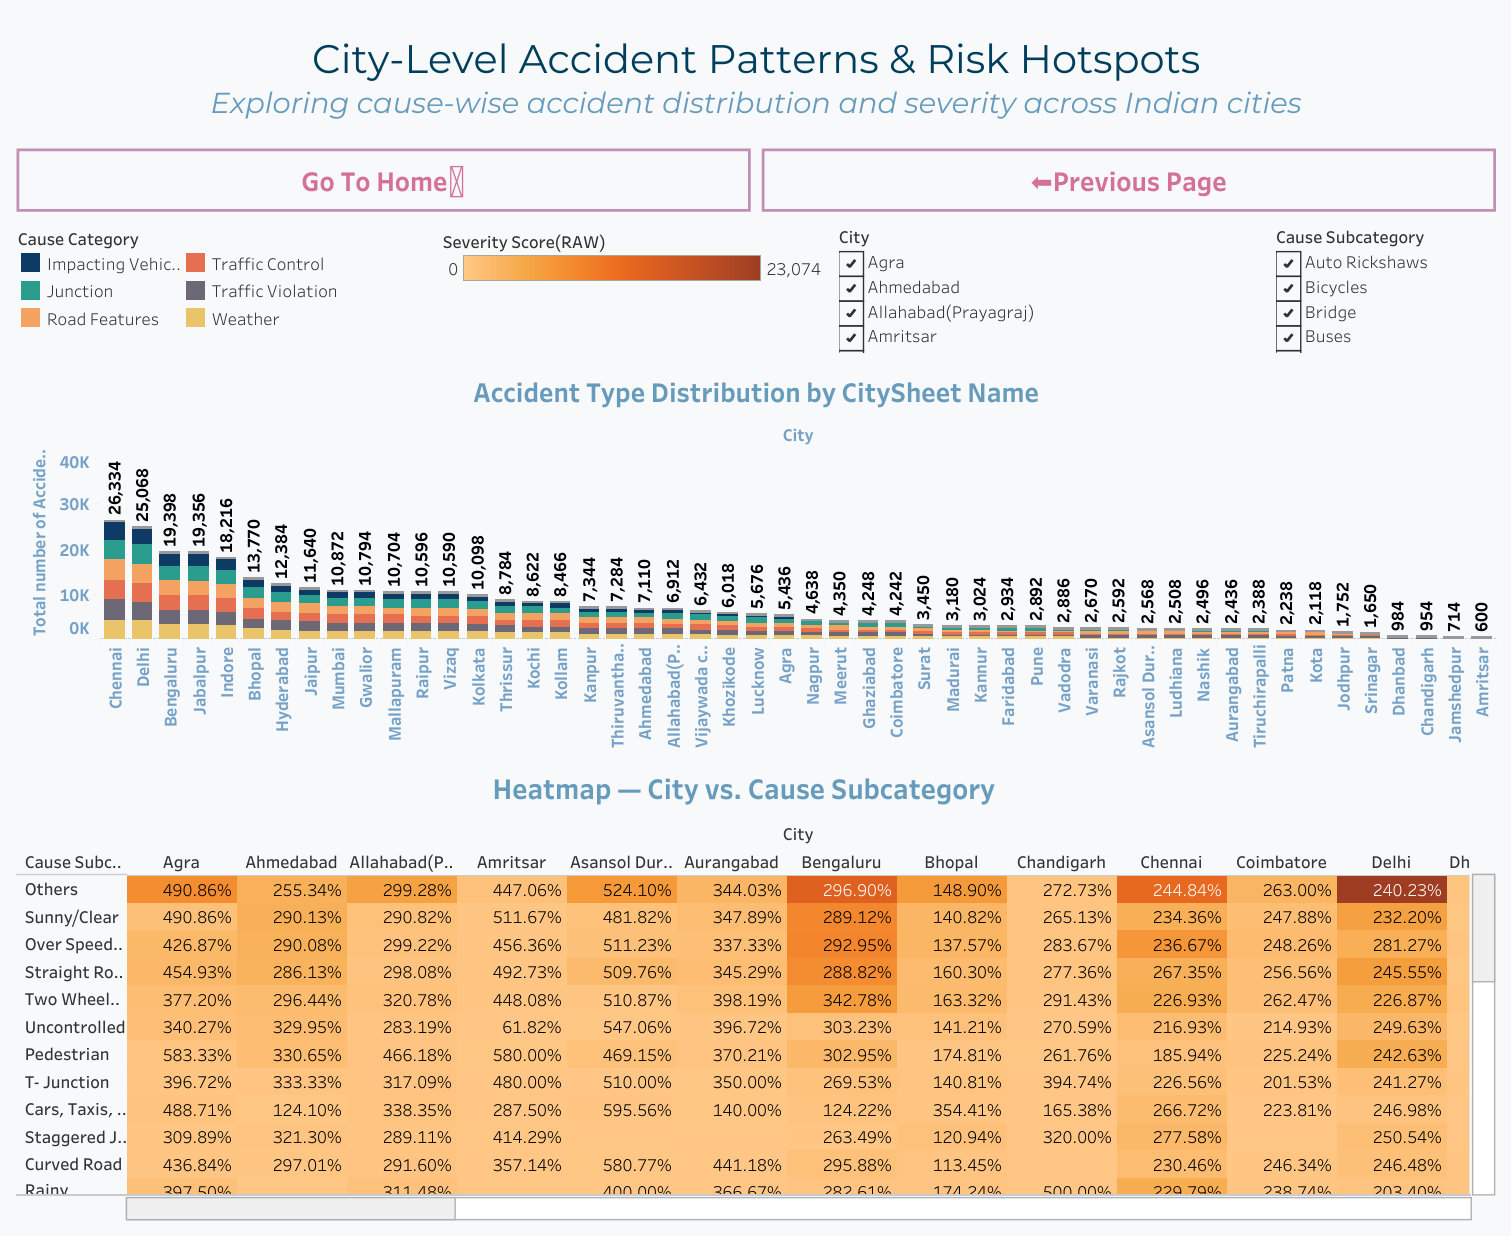

Layout of this report page (visuals, bound fields, positions):
{"tool":"tableau","page":{"name":"City-Level Accident Patterns & Risk Hotspots","canvas":[1100,900],"ordinal":0},"visuals":[{"type":"text","box":[8,8,1084,96.1]},{"type":"dashboard-object","box":[8,104.1,542,54.2]},{"type":"dashboard-object","box":[550,104.1,542,54.2]},{"type":"legend","title":"Accident Type Distribution by City","param":"[federated.1qr1u5g0pfcfgy1fzzg5r0x8486u].[none:Cause_Category:nk]","box":[8,158.3,310,102.7]},{"type":"legend","title":"Heatmap — City vs. Cause Subcategory","param":"[federated.1qr1u5g0pfcfgy1fzzg5r0x8486u].[usr:Calculation_266556842713436162:qk]","box":[318,158.3,288,102.7]},{"type":"filter","title":"Accident Type Distribution by City","param":"[federated.1qr1u5g0pfcfgy1fzzg5r0x8486u].[none:City:nk]","box":[606,158.3,318,102.7]},{"type":"filter","title":"Heatmap — City vs. Cause Subcategory","param":"[federated.1qr1u5g0pfcfgy1fzzg5r0x8486u].[none:Cause_Subcategory:nk]","box":[924,158.3,168,102.7]},{"type":"worksheet","title":"Accident Type Distribution by City","mark":"Automatic","rows":["Total number of Accidents","Total number of Accidents"],"cols":["City"],"box":[8,261,1084,288]},{"type":"worksheet","title":"Heatmap — City vs. Cause Subcategory","mark":"Square","rows":["Cause_Subcategory"],"cols":["City"],"box":[8,549,1084,343]}]}

Visuals, with their boxes in screenshot pixels (x1, y1, x2, y2), scaled from the page's 1100x900 canvas onto the 1511x1236 screenshot:
text: (11, 11, 1500, 143)
dashboard-object: (11, 143, 756, 217)
dashboard-object: (756, 143, 1500, 217)
"Accident Type Distribution by City" legend: (11, 217, 437, 358)
"Heatmap — City vs. Cause Subcategory" legend: (437, 217, 832, 358)
"Accident Type Distribution by City" filter: (832, 217, 1269, 358)
"Heatmap — City vs. Cause Subcategory" filter: (1269, 217, 1500, 358)
"Accident Type Distribution by City" worksheet: (11, 358, 1500, 754)
"Heatmap — City vs. Cause Subcategory" worksheet (Square marks): (11, 754, 1500, 1225)
